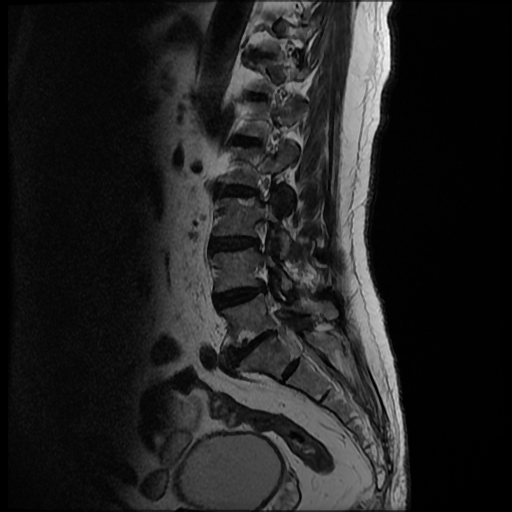LFS0: (241, 213, 278, 256)
